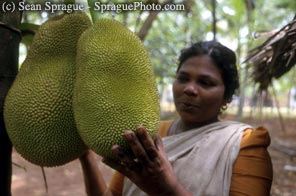jackfruit: (3, 10, 96, 168), (68, 16, 162, 157)
